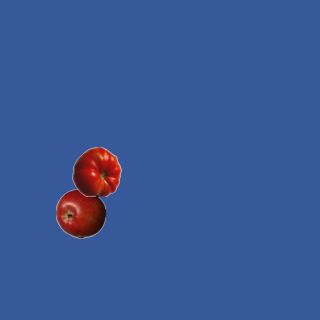Apple Braeburn: (55, 188, 105, 238)
Tomato 3: (71, 146, 121, 196)
